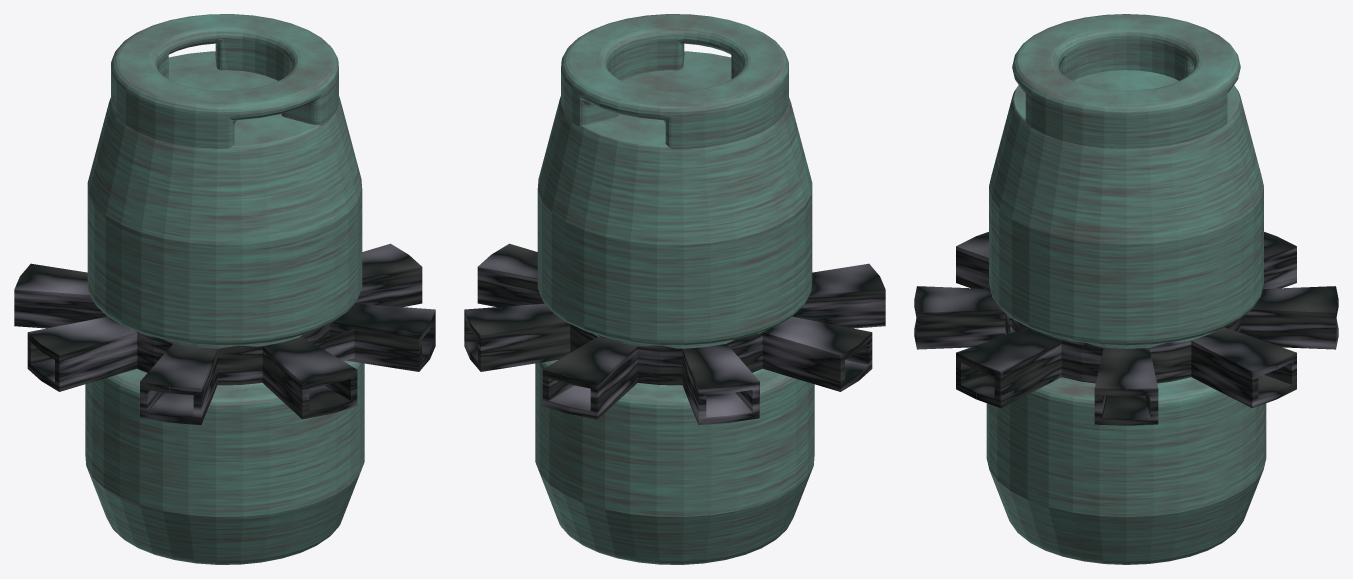
File: Ice_Tower.fbx
3 views of the same model, side by side, from view 1: azimuth 30°, elevation 25°; view 2: azimuth 150°, elevation 25°; view 3: azimuth 270°, elevation 25° (orthographic).
Visible parts, largest first — view 1: Body, Shooter_ring; view 2: Body, Shooter_ring; view 3: Body, Shooter_ring.
Boxes of the visible parts, left/top/right/bottom form: Body: left=85, top=14, right=364, bottom=564; Shooter_ring: left=14, top=243, right=435, bottom=424; Body: left=535, top=14, right=814, bottom=564; Shooter_ring: left=464, top=243, right=885, bottom=424; Body: left=986, top=14, right=1266, bottom=564; Shooter_ring: left=914, top=232, right=1338, bottom=425.
Size of the model in its own units: 364 by 434 by 364.
2 materials, 2 textured.
